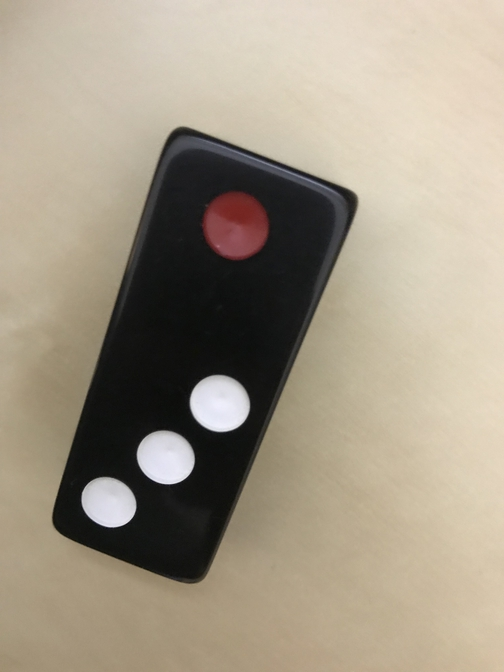goose: (54, 126, 357, 586)
